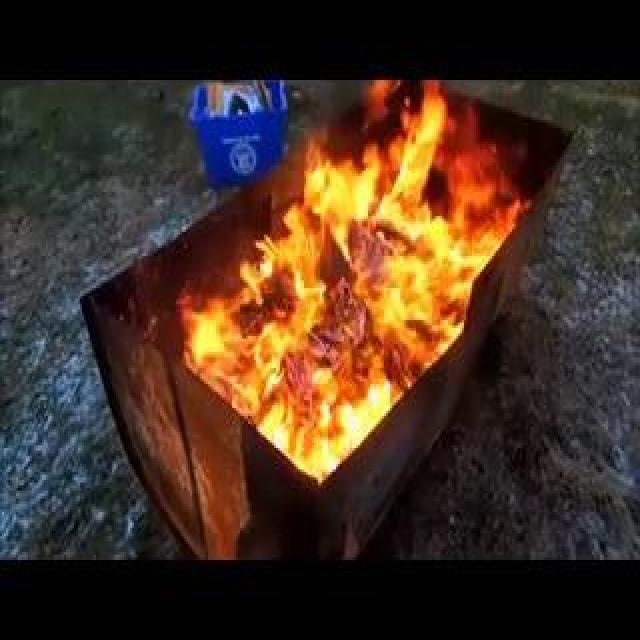Fire: (348, 284, 363, 402)
